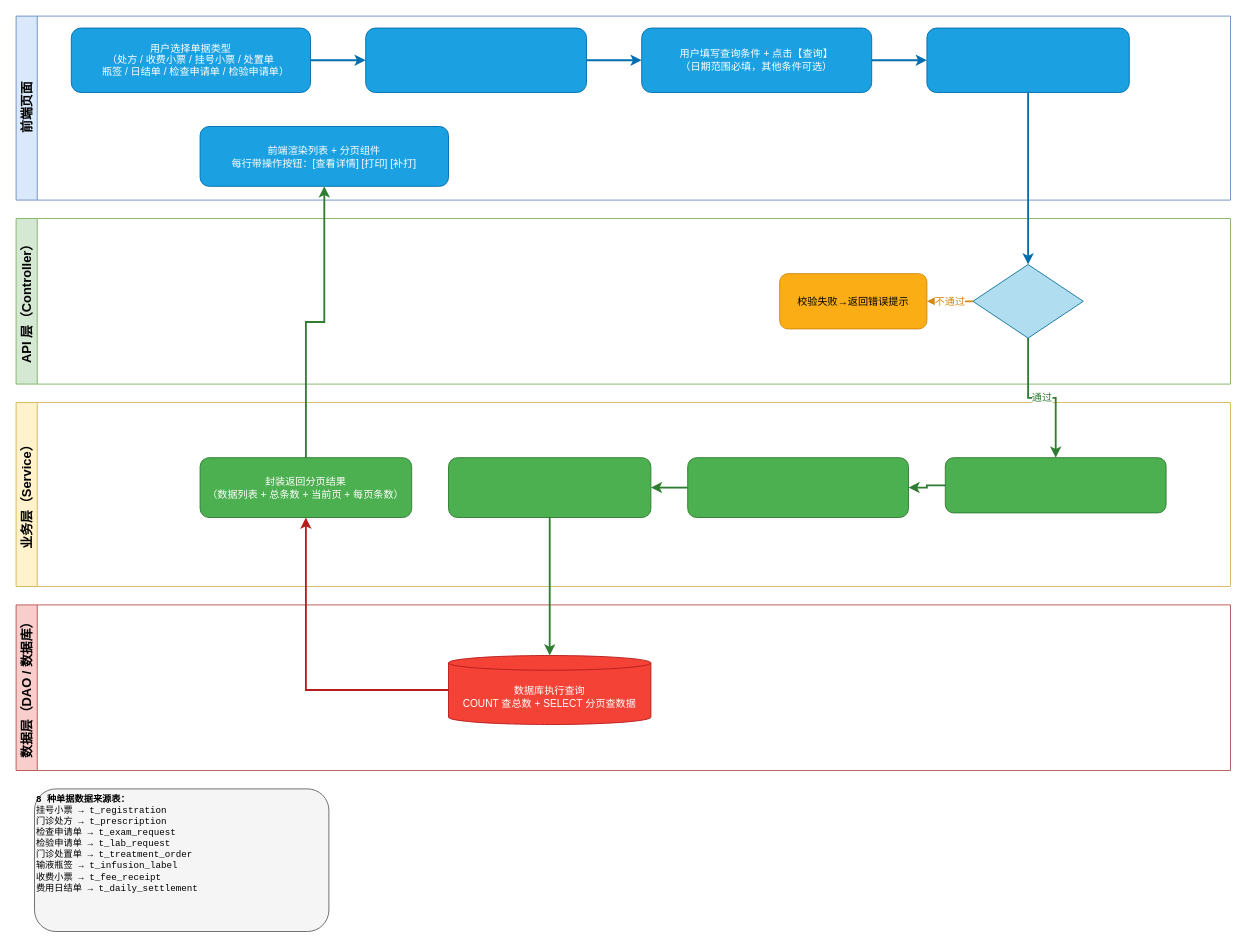
Image size: 1247x948. Some labels were removed from this diagram. The shapes that lost their labels are listed below. From the top down, each one's centre as x and y in pixels, then its label:
At [475,59]: "根据所选单据类型 前端动态加载对应的查询条件表单".
At [1027,59]: "发送 GET 请求到后端 携带查询条件 + 分页参数".
At [1027,301]: "参数校验".
At [549,487]: "调用 DAO 执行查询 先查总记录数，再查分页数据".
At [797,487]: "Service 构建查询条件 拼接 WHERE 子句 + 排序 + 分页参数".
At [1055,485]: "根据单据类型路由到对应的 Service".
